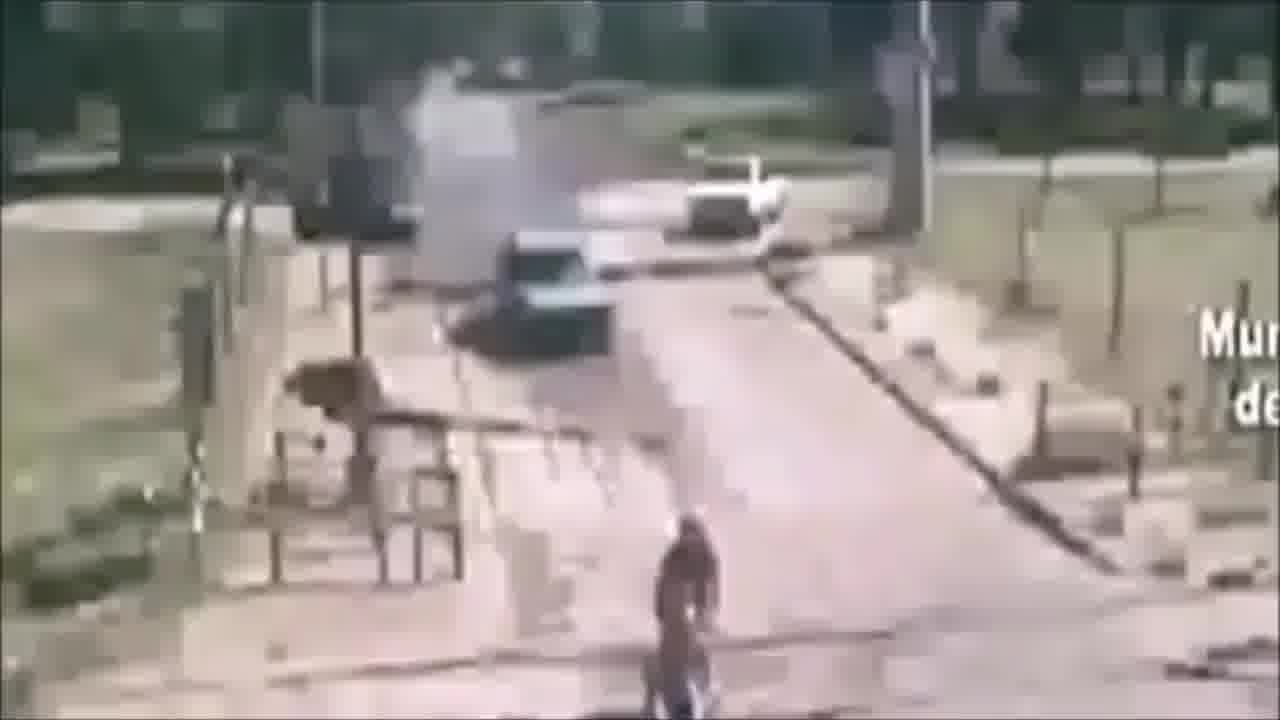crossing railway track: (587, 494, 805, 720)
